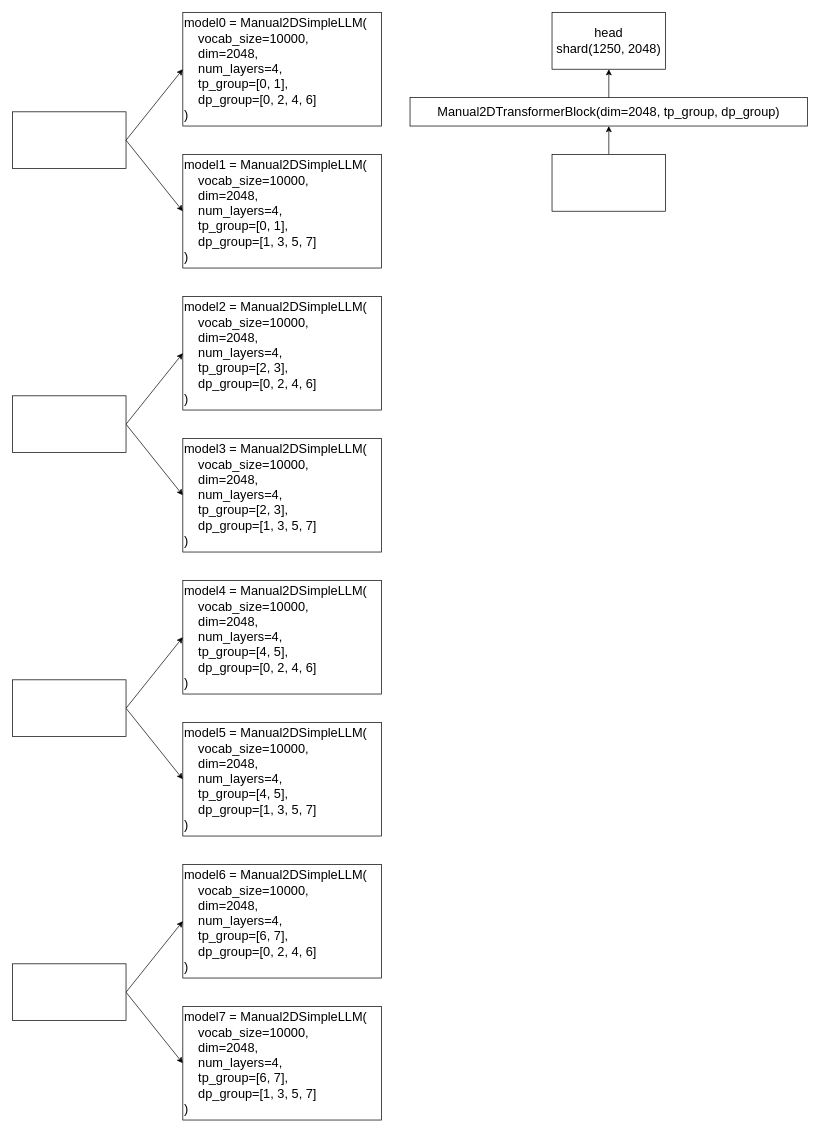
This 820x1132 diagram has some shape labels left out. Here are the shapes that lost their labels. From the top down, the centre of each, then its label:
point 69,140: dummy_input_0 shard(2, 16)
point 608,182: embed shard(2500, 2048)
point 69,424: dummy_input_1 shard(2, 16)
point 69,708: dummy_input_2 shard(2, 16)
point 69,992: dummy_input_3 shard(2, 16)
